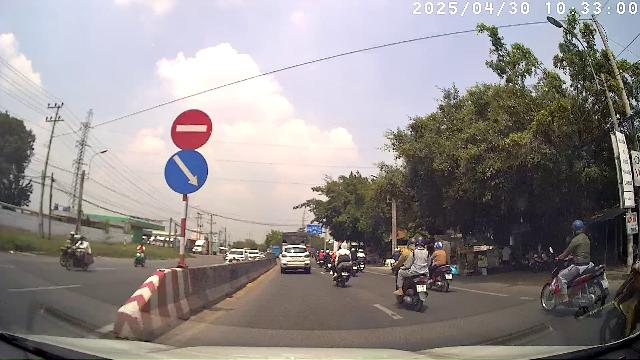102-cam-di-nguoc-chieu: (170, 108, 213, 149)
302a-huong-phai-di-vong-chuong-ngai-vat-1: (163, 149, 209, 194)
